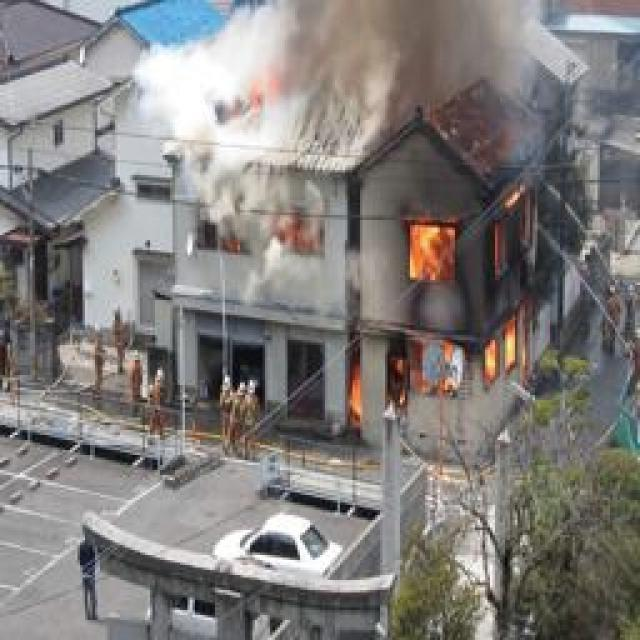Fire: (340, 180, 563, 433)
